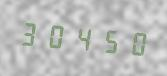five: (96, 21, 121, 59)
four: (70, 18, 95, 56)
three: (18, 14, 43, 52)
zero: (44, 16, 69, 54), (122, 23, 147, 61)
